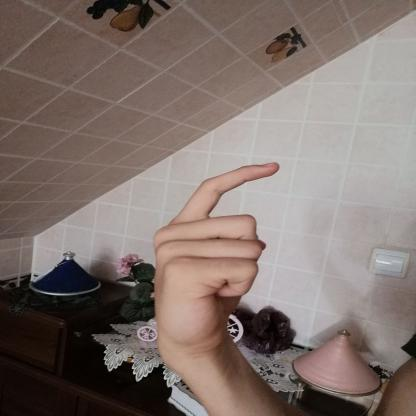RAA: (141, 151, 290, 365)
